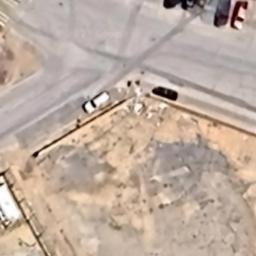unknown: (148, 80, 182, 105)
van: (78, 88, 114, 116)
